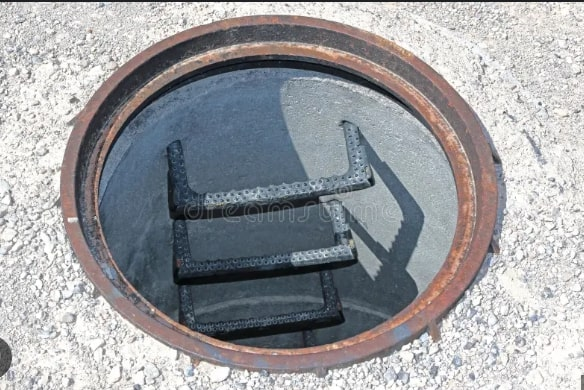open_manhole: (68, 22, 500, 358)
